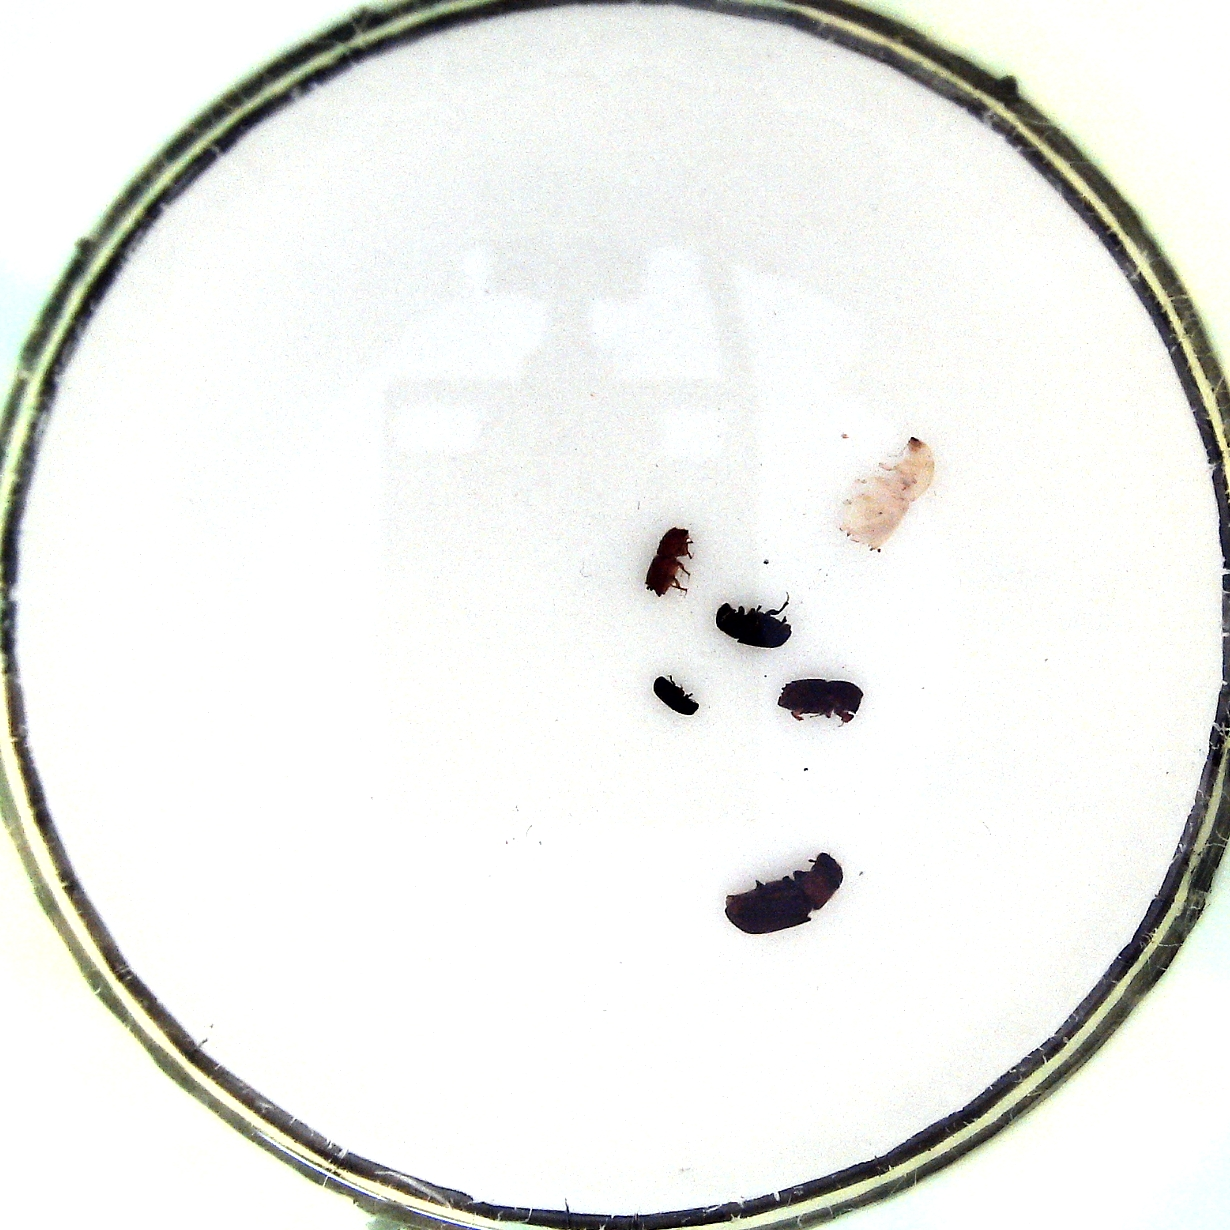Boerner: (836, 439, 936, 552)
Leconte: (723, 847, 846, 942)
Linnaeus: (775, 669, 867, 728)
acuminatus: (644, 523, 695, 601)
armandi: (708, 590, 797, 652)
coleoptera: (649, 670, 703, 723)
